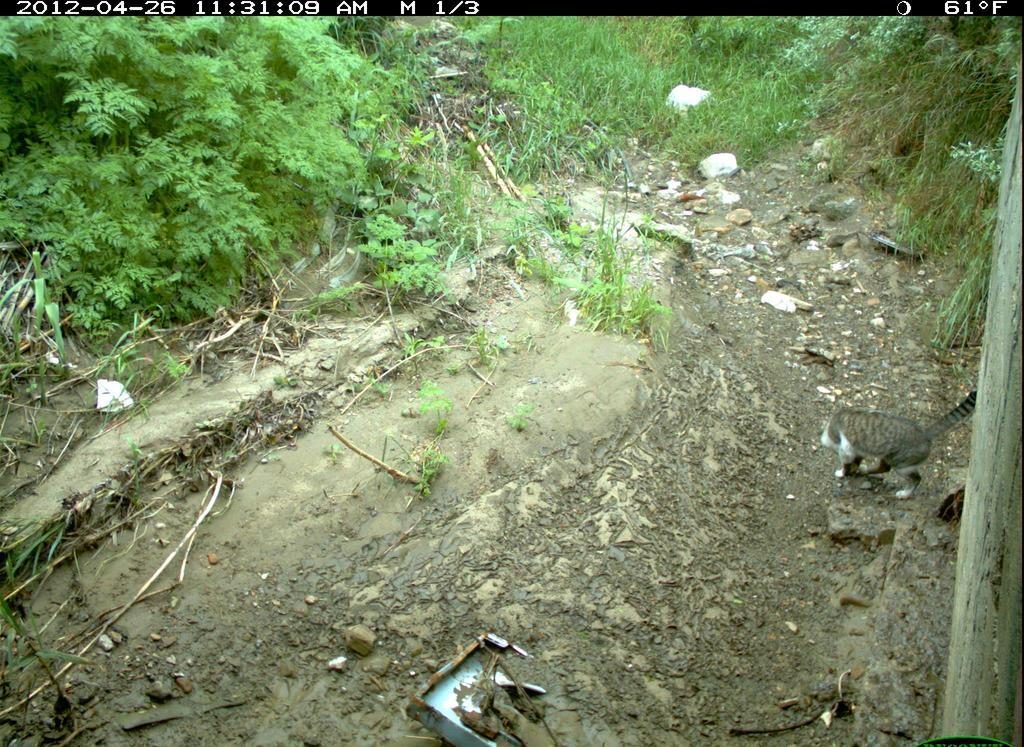cat: (824, 378, 985, 502)
